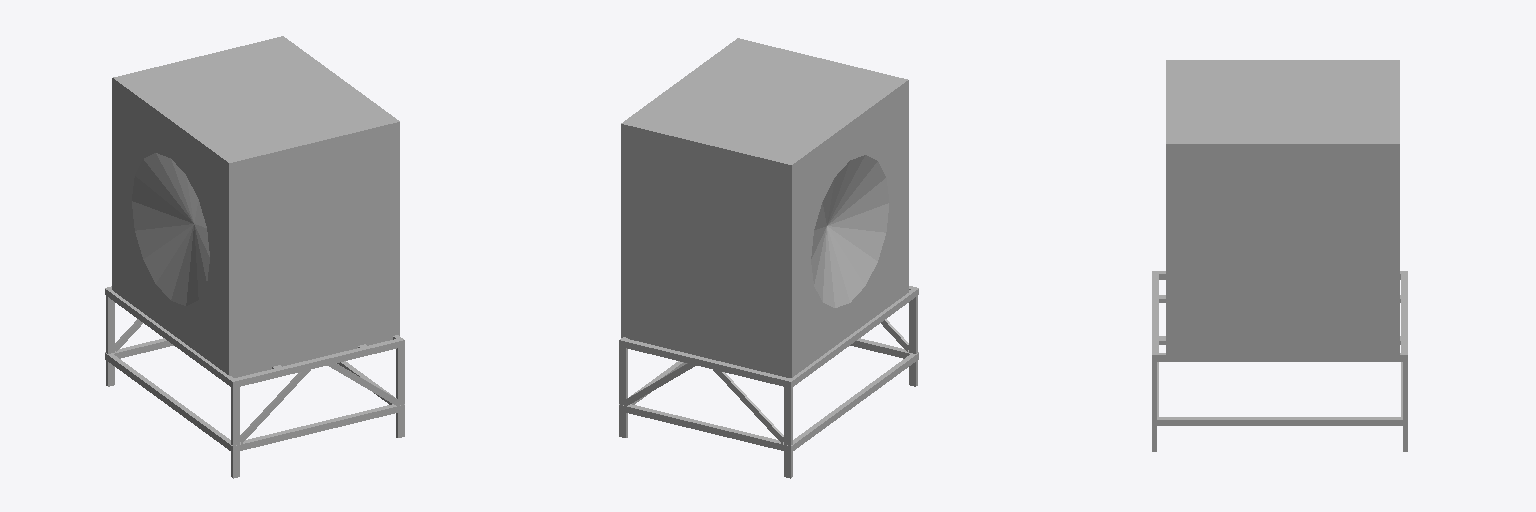
File: buildingO3.obj
The picture shows the model from 3 angles: view 1: azimuth 30°, elevation 25°; view 2: azimuth 150°, elevation 25°; view 3: azimuth 270°, elevation 25°; orthographic projection.
Parts seen in each view (by area): view 1: Kitbash3d_FutureSlums.019; view 2: Kitbash3d_FutureSlums.019; view 3: Kitbash3d_FutureSlums.019.
Part boxes in pixels (x1,y1,x2,y2): Kitbash3d_FutureSlums.019: (105, 36, 404, 478); Kitbash3d_FutureSlums.019: (619, 38, 918, 478); Kitbash3d_FutureSlums.019: (1152, 60, 1407, 451).
Bounding box in the file's own units: 1.1 × 1.87 × 1.4.